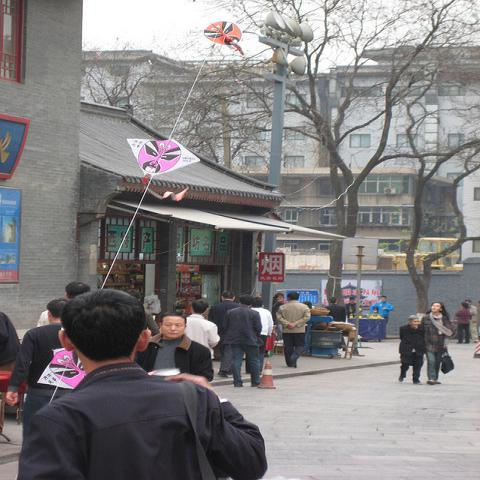truck: (377, 238, 463, 270)
